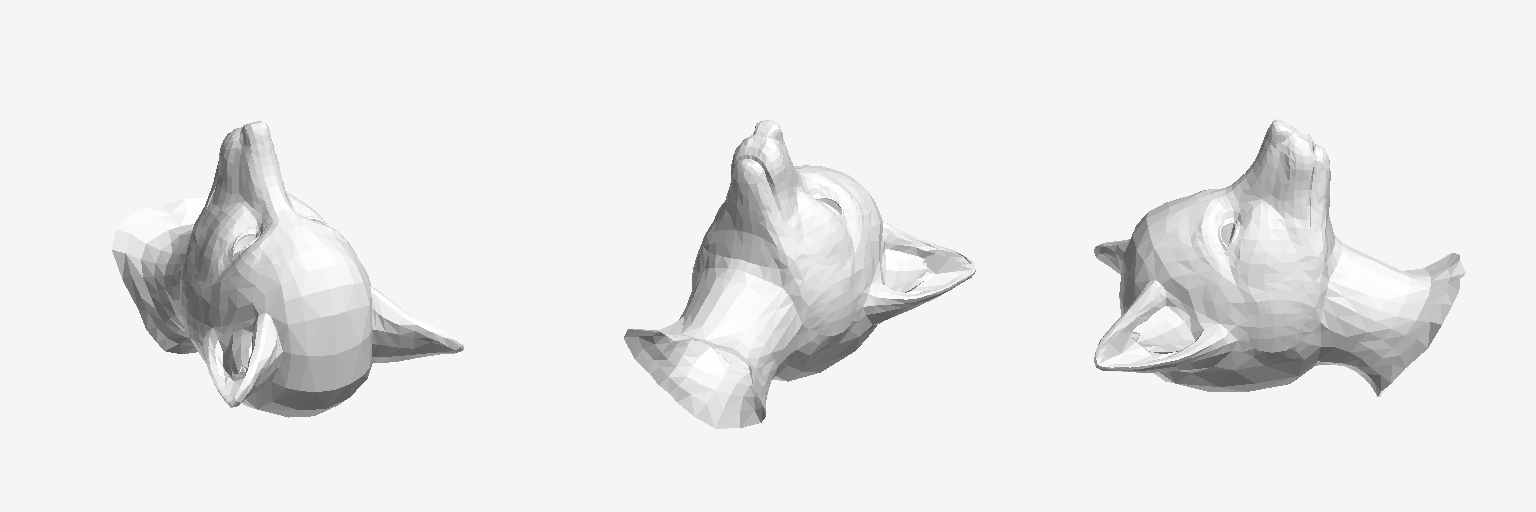
The model's file is VulpineHead.obj.
The picture shows the model from 3 angles: view 1: azimuth 30°, elevation 25°; view 2: azimuth 150°, elevation 25°; view 3: azimuth 270°, elevation 25°; orthographic projection.
Visible parts, largest first — view 1: VulpineHead; view 2: VulpineHead; view 3: VulpineHead.
Part boxes in pixels (x1,y1,x2,y2): VulpineHead: (112,121,463,417); VulpineHead: (624,120,975,428); VulpineHead: (1094,119,1465,396).
Size of the model in its own units: 17.47 by 19.12 by 24.05.